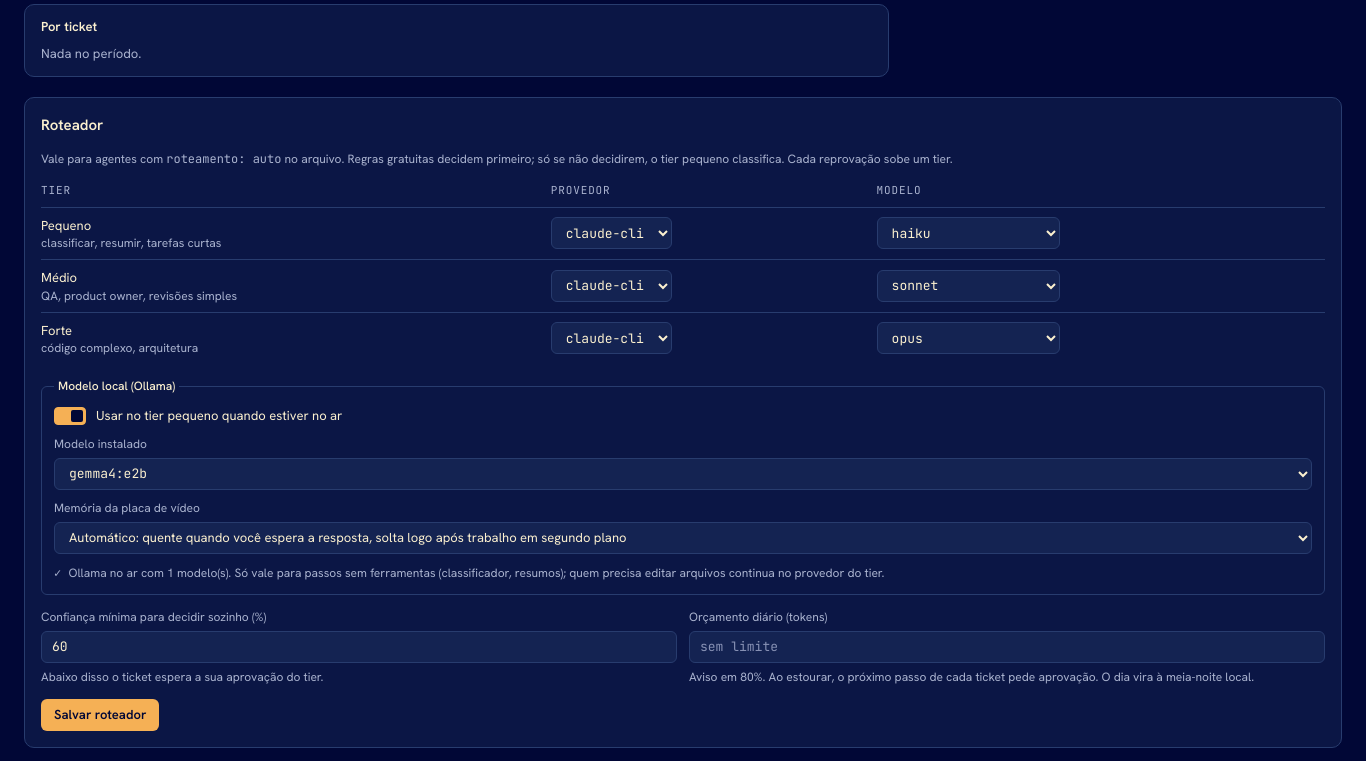
Test: MetricsPanel local model (QA) › shows the saved memory mode, defaults to auto when absent, and sends the chosen one
(page scrolled)
Step 1. Select "Econômico: descarrega após cada uso (recarrega a cada chamada)" in the dropdown labelled "Memória da placa de vídeo" → (683, 538), box x1=54 y1=522 x2=1312 y2=554
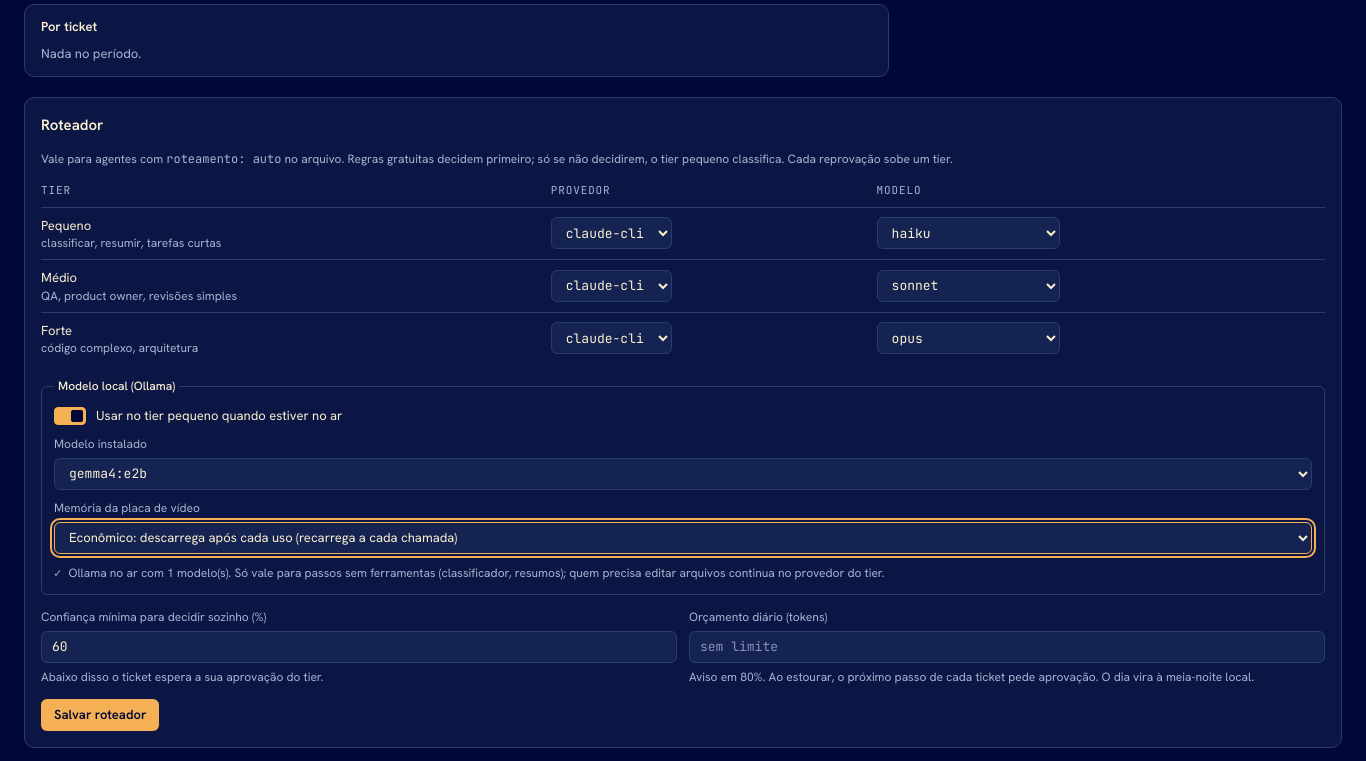
Step 2. Click the button "Salvar roteador" → (100, 714), box x1=41 y1=698 x2=159 y2=730
(page scrolled)
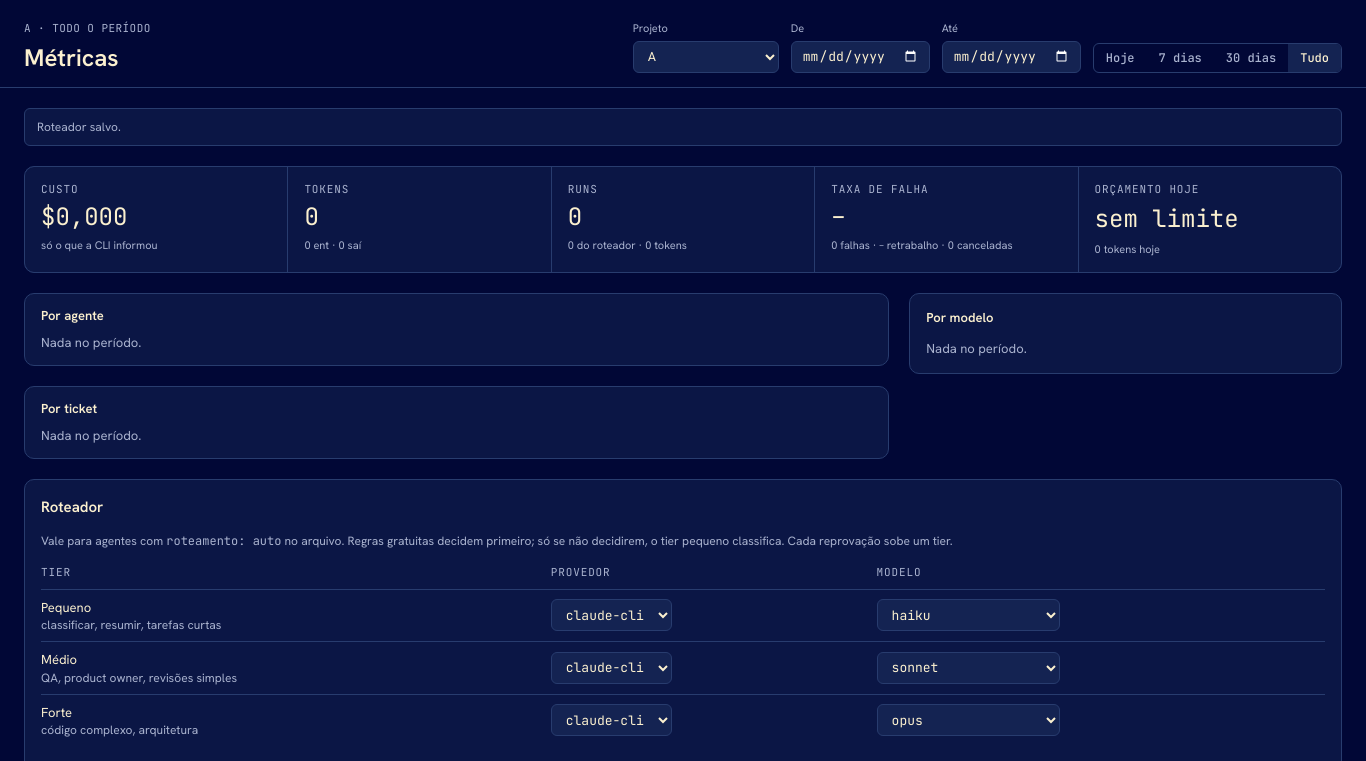
Now the text "Roteador salvo." is shown, box x1=24 y1=108 x2=1342 y2=146
